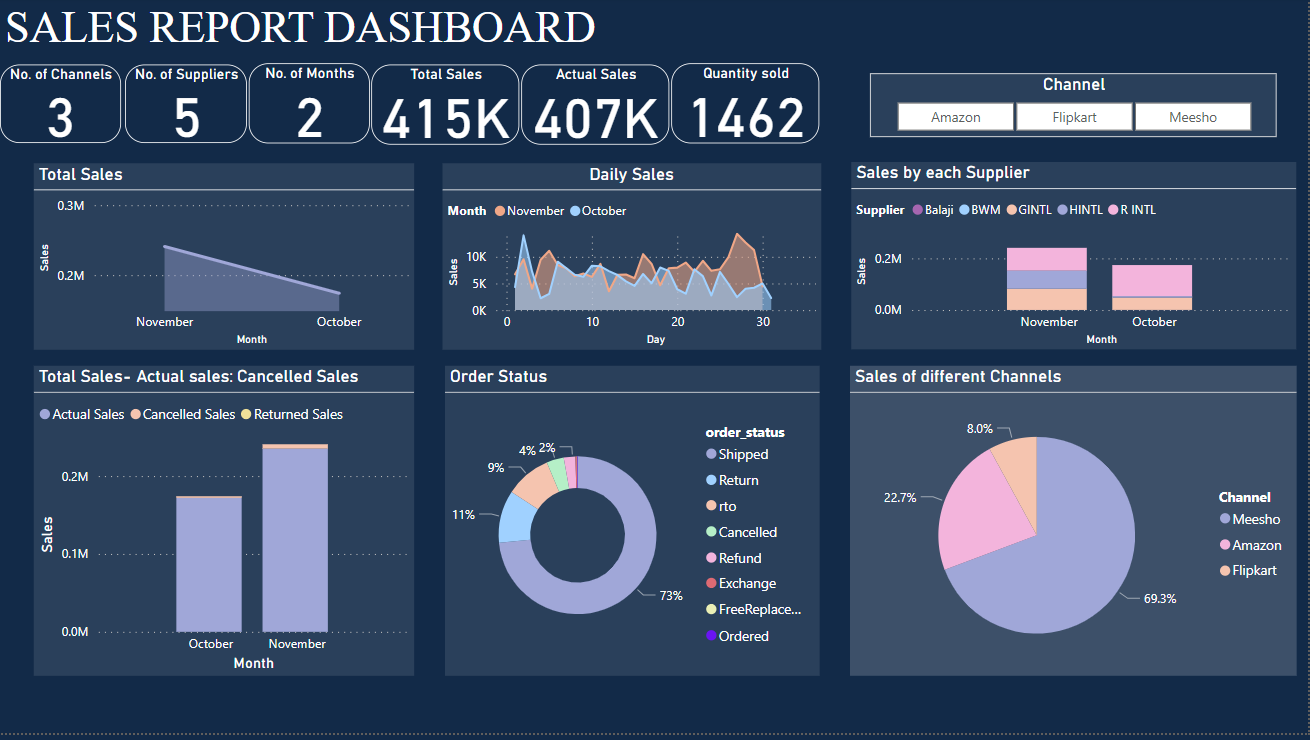

Layout of this report page (visuals, bound fields, positions):
{"tool":"powerbi","page":{"name":"Page 3","canvas":[1280,720],"ordinal":2},"visuals":[{"type":"textbox","box":[0,0,617.3,64.8],"z":0},{"type":"card","title":"No. of Channels","fields":{"Values":["Count(combined.channel)"]},"box":[0,66,118,77],"z":1000},{"type":"card","title":"No. of Suppliers","fields":{"Values":["Count(combined.sup_name)"]},"box":[122,66,119,77],"z":2000},{"type":"card","title":"No. of Months","fields":{"Values":["Count(combined.month_number)"]},"box":[243,65,118,78],"z":3000},{"type":"card","title":"Total Sales","fields":{"Values":["combined.Total Sales"]},"box":[363,66,145,78],"z":4000},{"type":"card","title":"Actual Sales","fields":{"Values":["combined.Actual Sales"]},"box":[510,66,145,78],"z":5000},{"type":"card","title":"Quantity sold","fields":{"Values":["Sum(combined.quantity)"]},"box":[657,65,145,78],"z":6000},{"type":"slicer","title":"Channel","fields":{"Values":["combined.channel"]},"box":[851.1,74.4,397.8,62.2],"z":7000},{"type":"areaChart","title":"Daily Sales","fields":{"Series":["combined.month_number"],"Y":["Sum(combined.sales)"],"Category":["combined.order_date.Variation.Date Hierarchy.Day"]},"box":[432.2,162.2,370,182.2],"z":8000},{"type":"columnChart","title":"Sales by each Supplier","fields":{"Category":["combined.month_number"],"Y":["Sum(combined.sales)"],"Series":["combined.sup_name"]},"box":[832.2,161.1,435.6,183.3],"z":9000},{"type":"areaChart","title":"Total Sales","fields":{"Category":["combined.month_number"],"Y":["Sum(combined.sales)"]},"box":[33.3,162.2,372.2,182.2],"z":10000},{"type":"pieChart","title":"Sales of different Channels","fields":{"Y":["Sum(combined.sales)"],"Category":["combined.channel"]},"box":[831.1,360,436.7,303.3],"z":11000},{"type":"columnChart","title":"Total Sales- Actual sales: Cancelled Sales","fields":{"Category":["combined.order_date.Variation.Date Hierarchy.Month"],"Y":["combined.Actual Sales","combined.Cancelled Sales","combined.Returned Sales"]},"box":[33.3,360,372.2,303.3],"z":12000},{"type":"donutChart","title":"Order Status","fields":{"Y":["CountNonNull(combined.order_status)"],"Category":["combined.order_status"]},"box":[435.6,360,366.7,303.3],"z":13000}]}

Visuals, with their boxes in screenshot pixels (x1, y1, x2, y2), scaled from the page's 1280x720 canvas onto the 1310x740 screenshot:
textbox: 0, 0, 632, 67
"No. of Channels" card: 0, 68, 121, 147
"No. of Suppliers" card: 125, 68, 247, 147
"No. of Months" card: 249, 67, 369, 147
"Total Sales" card: 372, 68, 520, 148
"Actual Sales" card: 522, 68, 670, 148
"Quantity sold" card: 672, 67, 821, 147
"Channel" slicer: 871, 76, 1278, 140
"Daily Sales" areaChart: 442, 167, 821, 354
"Sales by each Supplier" columnChart: 852, 166, 1298, 354
"Total Sales" areaChart: 34, 167, 415, 354
"Sales of different Channels" pieChart: 851, 370, 1298, 682
"Total Sales- Actual sales: Cancelled Sales" columnChart: 34, 370, 415, 682
"Order Status" donutChart: 446, 370, 821, 682
